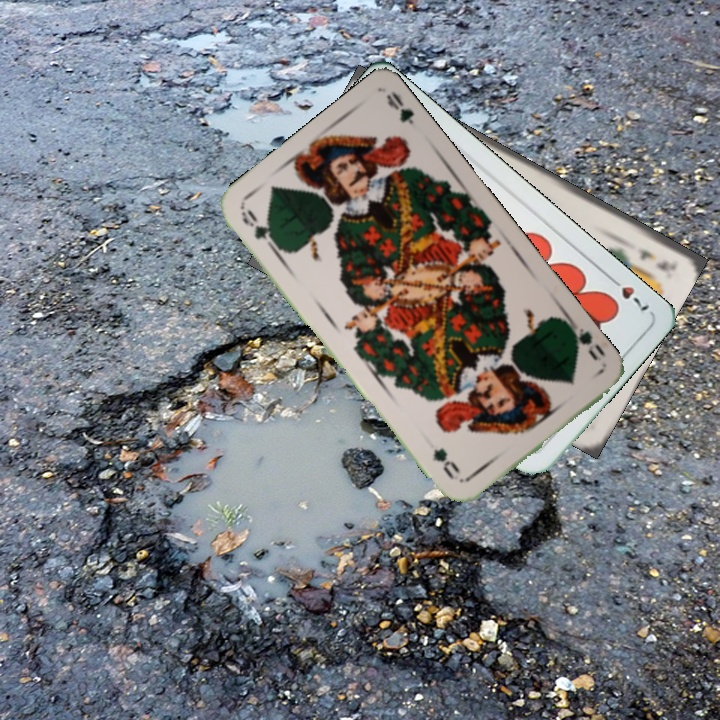EK: (633, 245, 672, 274)
GO: (237, 205, 286, 256), (563, 316, 609, 364)
H7: (604, 271, 652, 314)
